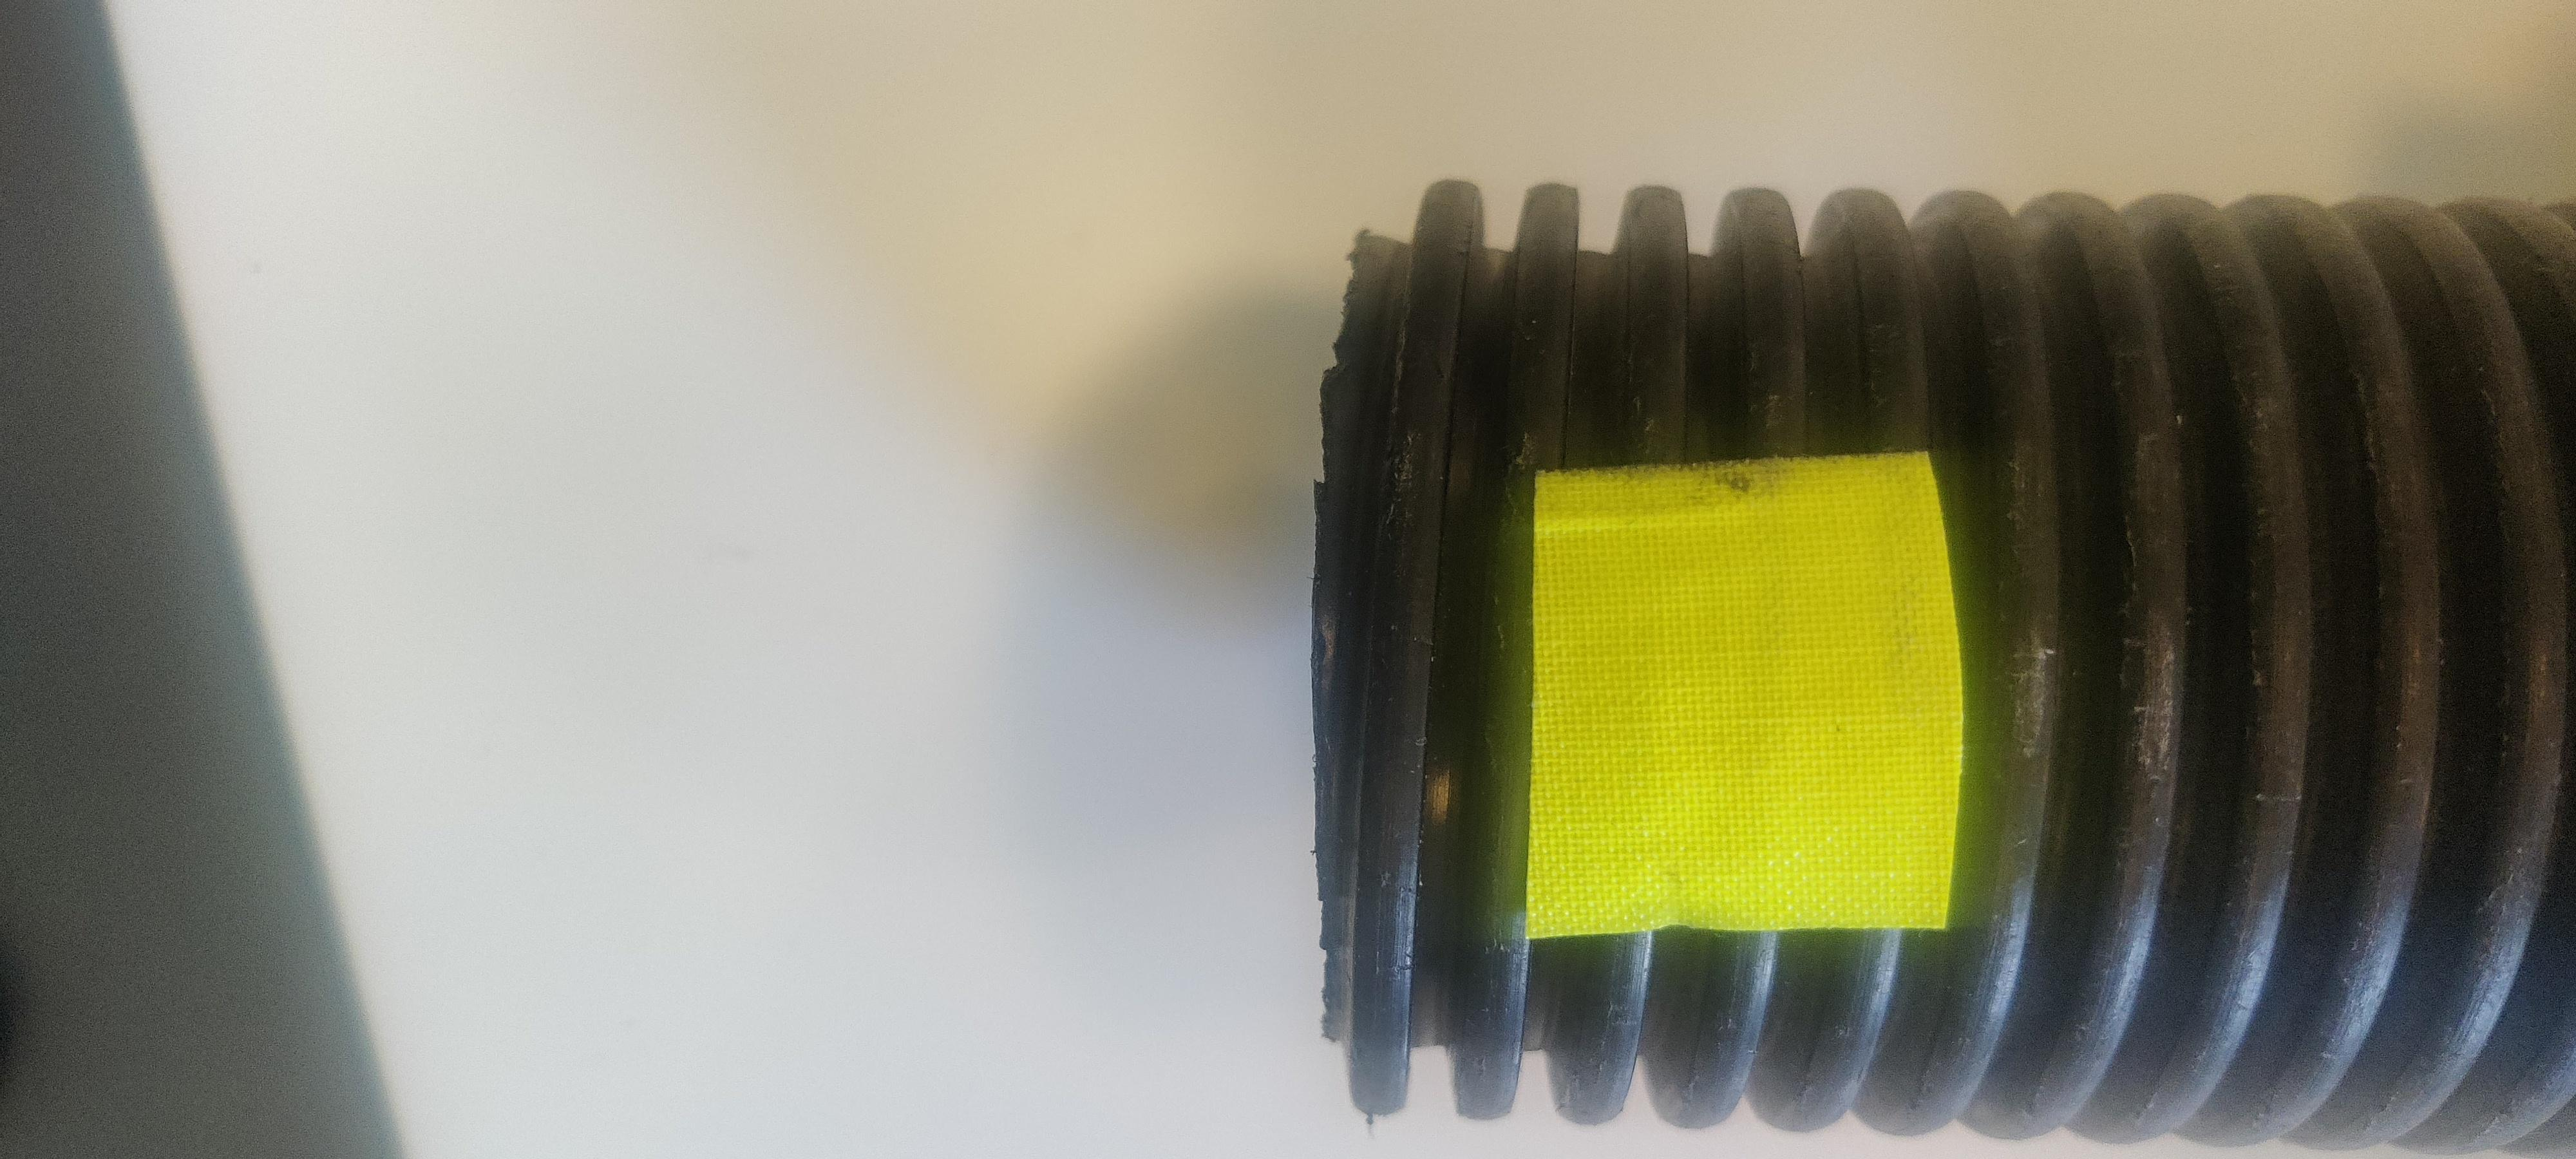robot-front: (1334, 217, 2574, 1149)
